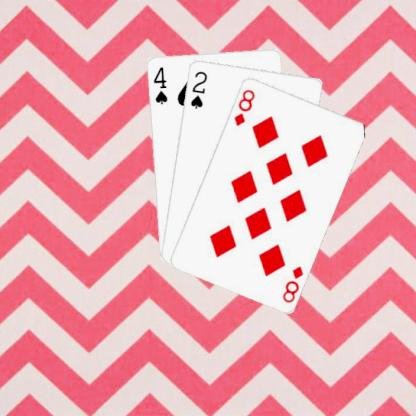2S: (187, 68, 209, 110)
4S: (150, 64, 168, 105)
8D: (231, 86, 257, 128), (280, 263, 304, 304)
